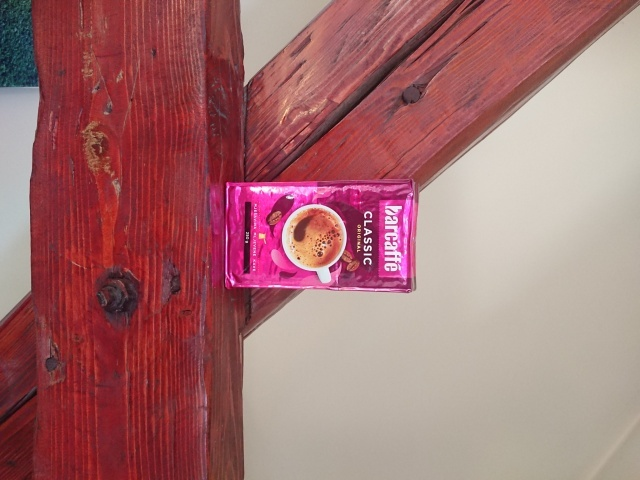Barcaffe Classic Original 225g: (221, 177, 421, 296)
